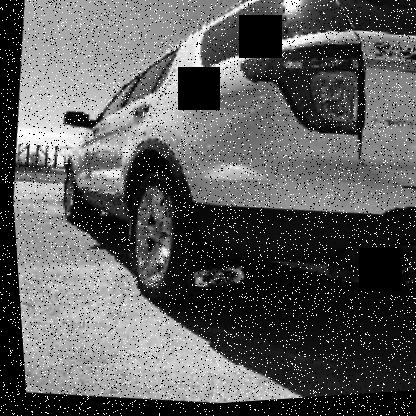not_emergency: (27, 0, 415, 353)
